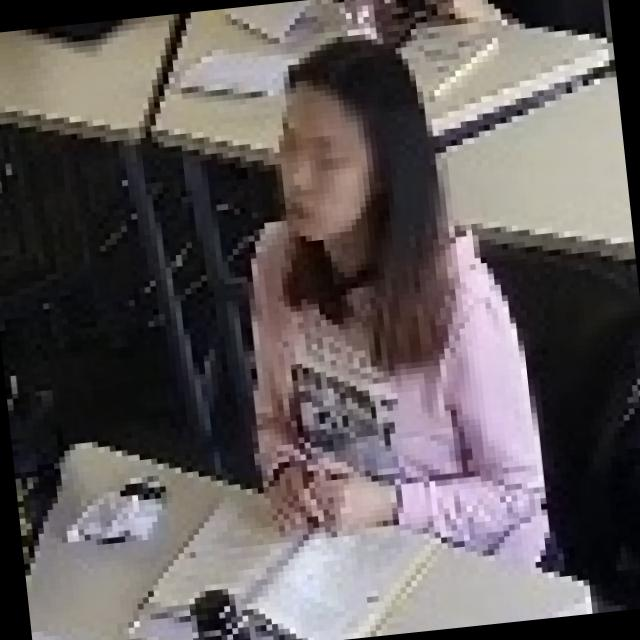listen: (201, 14, 584, 598)
